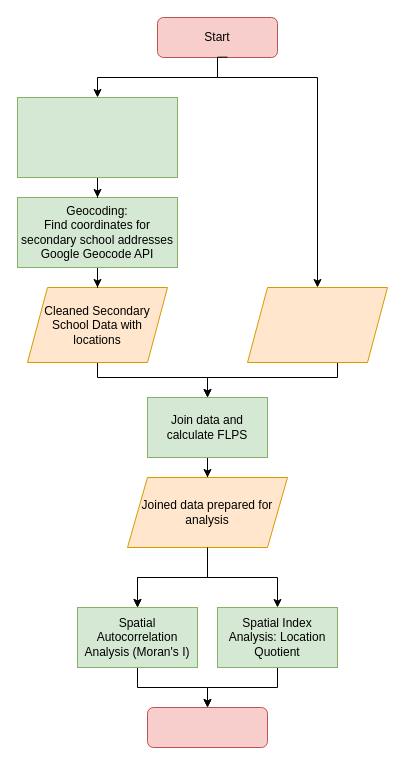
This 405x765 diagram has some shape labels left out. Here are the shapes that lost their labels. From the top down, the centre of each, then its label:
At pixel 97 137: "Webscraping oktatas.hu to obtain secondary school location and SELE data".
At pixel 317 324: "Hungary Shape file LAU1 by GDAM".
At pixel 207 727: "End".
